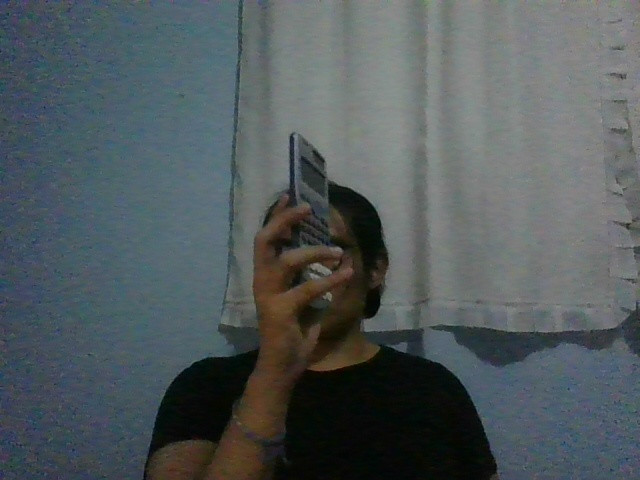calculadora: (289, 133, 332, 311)
